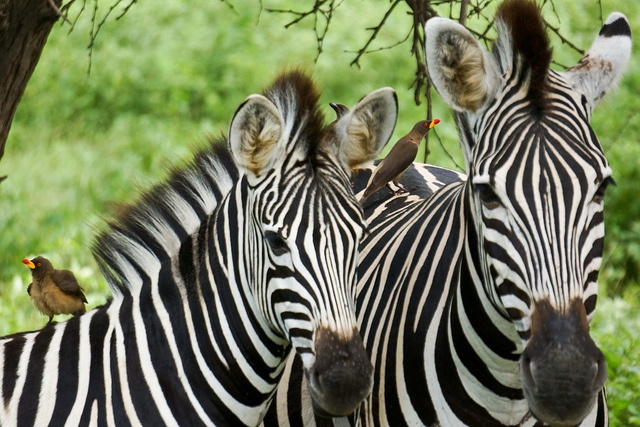zebra: (253, 2, 631, 425), (1, 69, 399, 425)
